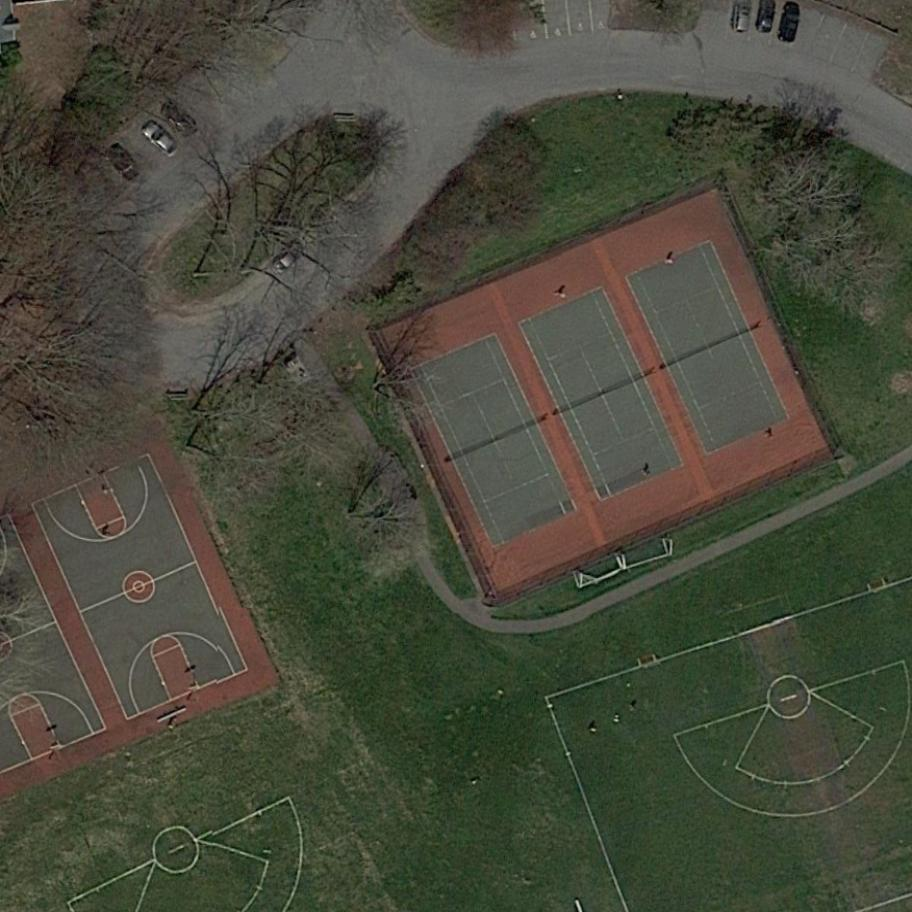small-vehicle: (157, 96, 203, 142), (136, 117, 181, 162), (74, 160, 117, 201), (266, 237, 308, 278), (102, 142, 141, 185), (775, 3, 802, 42)
